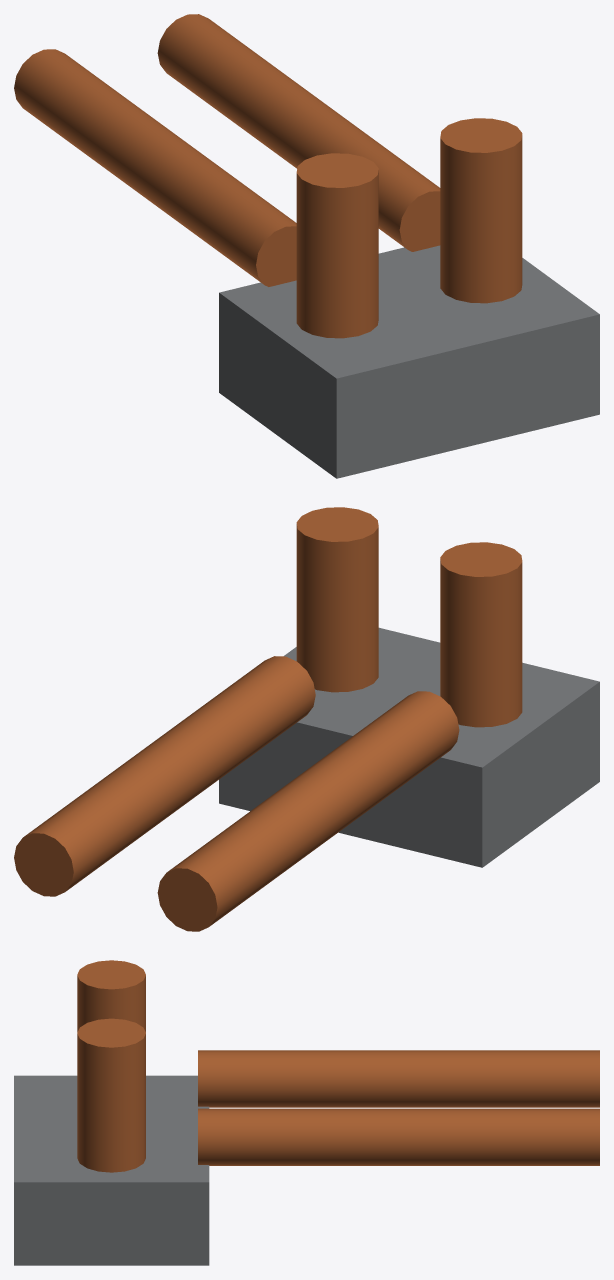
The model's file is th_emergency_coolant.obj.
The picture shows the model from 3 angles, top to bottom: view 1: azimuth 30°, elevation 25°; view 2: azimuth 150°, elevation 25°; view 3: azimuth 270°, elevation 25°; orthographic projection. The views are drawn at different scales.
Visible parts, largest first — view 1: th_emergency_coolant; view 2: th_emergency_coolant; view 3: th_emergency_coolant.
Boxes of the visible parts, x1,y1,x2,y2 form: th_emergency_coolant: (14,14,599,478); th_emergency_coolant: (14,507,599,931); th_emergency_coolant: (14,960,599,1265).
Size of the model in its own units: 0.44 by 0.4 by 1.02.
